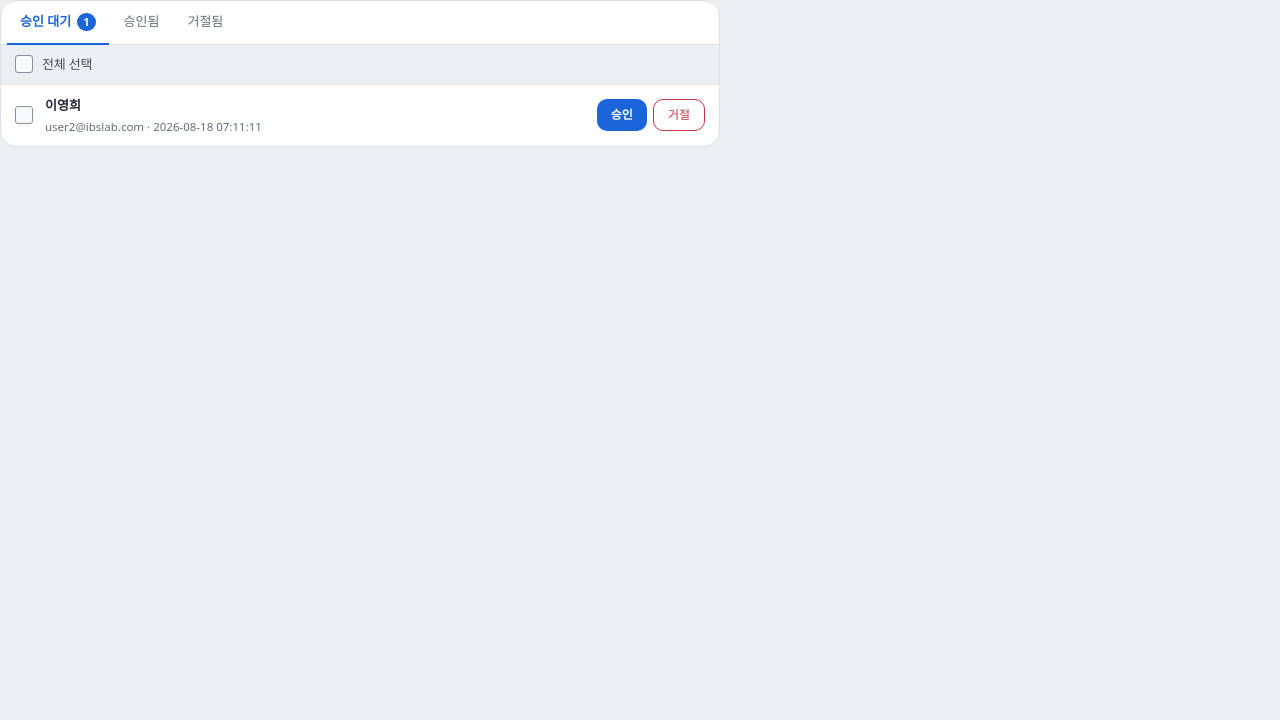
Scenario: UserApprovalList › 거절 확인창이 재가입 불가를 알린다
Expected: the text "이영희" is shown, [45,96,81,114]
Click the button "거절": (679, 115) [653,99,705,131]
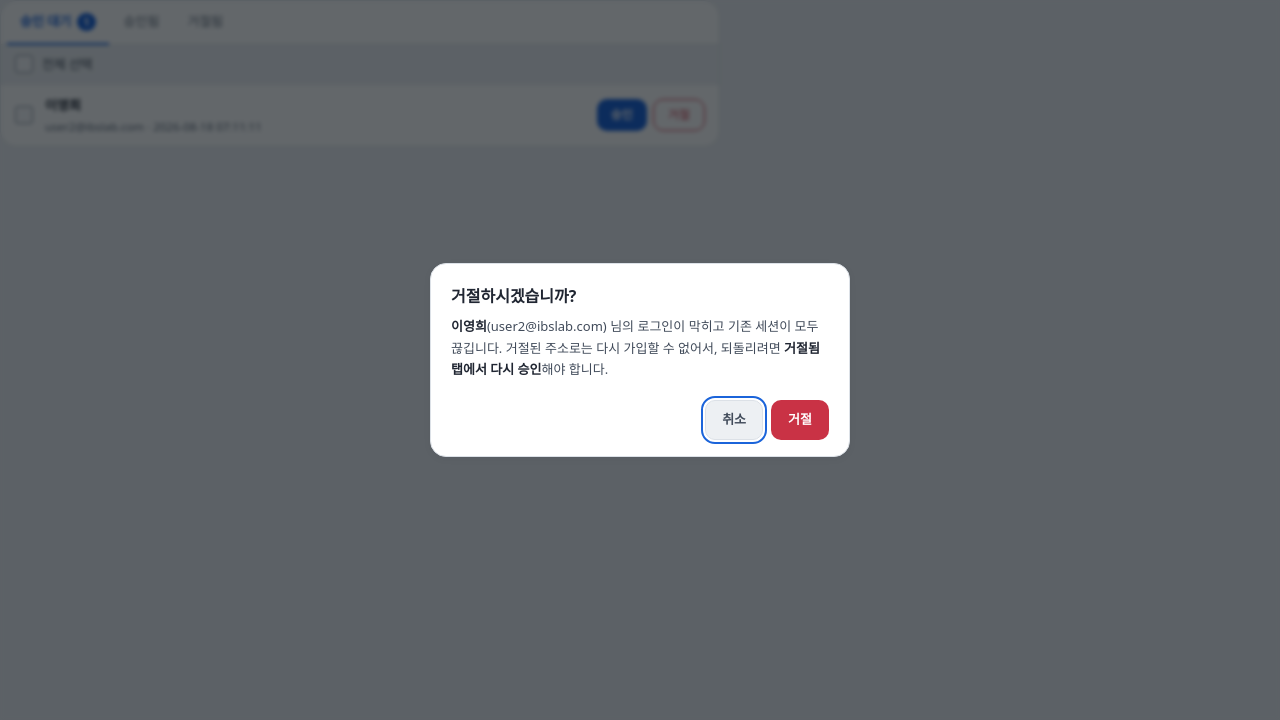
Result: the dialog shows "다시 가입할 수 없어서" at [451,317,818,356]
Result: the dialog shows "거절됨 탭에서 다시 승인" at [451,338,820,378]
